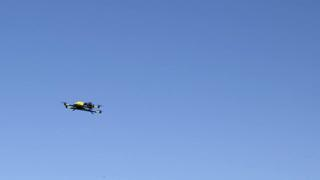UAV: (60, 102, 104, 114)
